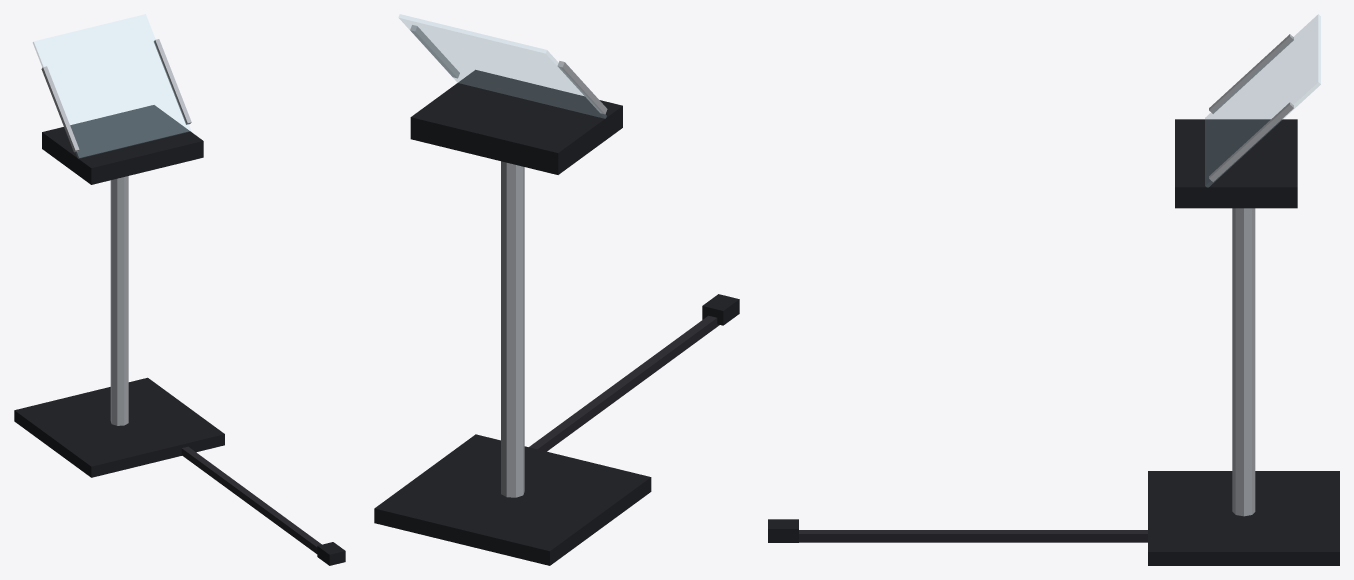
File: teleprompter.glb
The picture shows the model from 3 angles, left to right: view 1: azimuth 30°, elevation 25°; view 2: azimuth 150°, elevation 25°; view 3: azimuth 270°, elevation 25°; orthographic projection. The views are drawn at different scales.
Parts seen in each view (by area): view 1: glass_prompter_glass, stand_tv_black, monitor_tv_black, stand_tv_metal, cable_prompter_cable, glass_tv_metal, cable_tv_black; view 2: stand_tv_black, monitor_tv_black, glass_prompter_glass, stand_tv_metal, cable_prompter_cable, glass_tv_metal, cable_tv_black; view 3: stand_tv_black, monitor_tv_black, glass_prompter_glass, stand_tv_metal, cable_prompter_cable, glass_tv_metal, cable_tv_black.
Boxes of the visible parts, left/top/right/bottom form: glass_prompter_glass: left=33, top=14, right=190, bottom=158; stand_tv_black: left=14, top=377, right=224, bottom=477; monitor_tv_black: left=42, top=105, right=203, bottom=184; stand_tv_metal: left=110, top=176, right=128, bottom=425; cable_prompter_cable: left=181, top=446, right=321, bottom=553; glass_tv_metal: left=41, top=39, right=191, bottom=152; cable_tv_black: left=317, top=542, right=345, bottom=565; stand_tv_black: left=374, top=434, right=651, bottom=565; monitor_tv_black: left=410, top=70, right=622, bottom=174; glass_prompter_glass: left=398, top=14, right=606, bottom=118; stand_tv_metal: left=501, top=161, right=524, bottom=497; cable_prompter_cable: left=529, top=315, right=719, bottom=451; glass_tv_metal: left=410, top=25, right=607, bottom=114; cable_tv_black: left=702, top=294, right=739, bottom=325; stand_tv_black: left=1148, top=471, right=1339, bottom=565; monitor_tv_black: left=1175, top=119, right=1297, bottom=208; glass_prompter_glass: left=1205, top=14, right=1320, bottom=187; stand_tv_metal: left=1232, top=208, right=1255, bottom=516; cable_prompter_cable: left=799, top=530, right=1147, bottom=542; glass_tv_metal: left=1209, top=34, right=1293, bottom=181; cable_tv_black: left=768, top=519, right=798, bottom=542.
Bounding box in the file's own units: 0.5 × 1.37 × 1.49.
